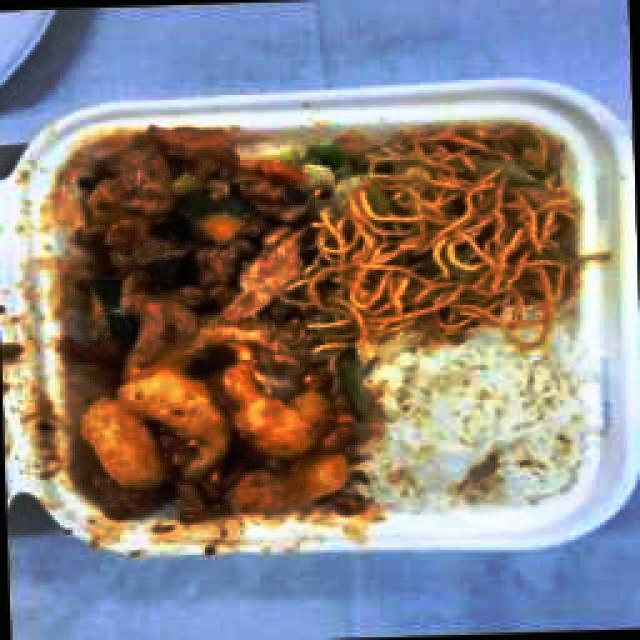Chow Mein: (322, 138, 578, 317)
Kung Pao Chicken: (92, 127, 301, 325)
rice: (373, 327, 580, 499)
